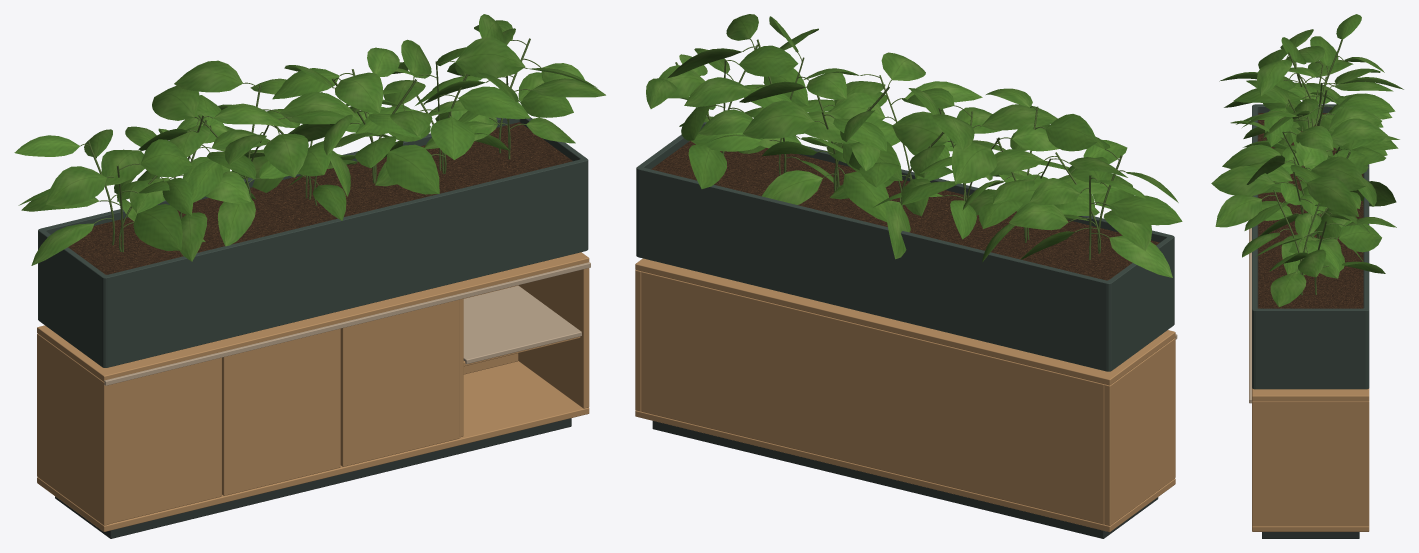
Rendered from botanicalDivider-10.glb.
The picture shows the model from 3 angles, left to right: view 1: azimuth 30°, elevation 25°; view 2: azimuth 150°, elevation 25°; view 3: azimuth 270°, elevation 25°; orthographic projection. The views are drawn at different scales.
Visible parts, largest first — view 1: Planter_pothos_leaves, Planter_oiled_oak, StoragePlanter_Door (×3), StoragePlanter_Side (×2), Planter_loose_soil, StoragePlanter_Bottom, StoragePlanter_Top, StoragePlanter_OpenShelf, StoragePlanter_Plinth, Planter_pothos_stems, StoragePlanter_AccentRail, StoragePlanter_Divider; view 2: StoragePlanter_Back, Planter_pothos_leaves, Planter_oiled_oak, Planter_loose_soil, StoragePlanter_Side (×2), StoragePlanter_Top, StoragePlanter_Plinth, StoragePlanter_Bottom, Planter_pothos_stems; view 3: Planter_pothos_leaves, StoragePlanter_Side, Planter_oiled_oak, Planter_loose_soil, Planter_pothos_stems, StoragePlanter_Top, StoragePlanter_Bottom, StoragePlanter_Plinth, StoragePlanter_AccentRail.
Part boxes in pixels (x1,y1,x2,y2): Planter_pothos_leaves: (14,14,605,265); Planter_oiled_oak: (38,117,588,367); StoragePlanter_Door (×3): (109,299,459,523); StoragePlanter_Side (×2): (37,268,589,525); Planter_loose_soil: (68,122,572,274); StoragePlanter_Bottom: (37,361,589,531); StoragePlanter_Top: (37,252,589,381); StoragePlanter_OpenShelf: (463,285,581,363); StoragePlanter_Plinth: (55,418,571,538); Planter_pothos_stems: (80,38,541,252); StoragePlanter_AccentRail: (104,262,590,385); StoragePlanter_Divider: (459,298,463,437); StoragePlanter_Back: (641,271,1104,524); Planter_pothos_leaves: (646,14,1182,277); Planter_oiled_oak: (636,122,1174,371); Planter_loose_soil: (651,140,1159,280); StoragePlanter_Side (×2): (635,270,1175,525); StoragePlanter_Top: (635,258,1175,385); StoragePlanter_Plinth: (652,421,1158,538); StoragePlanter_Bottom: (635,410,1175,532); Planter_pothos_stems: (675,39,1125,259); Planter_pothos_leaves: (1211,14,1403,307); StoragePlanter_Side: (1252,401,1369,526); Planter_oiled_oak: (1252,104,1369,389); Planter_loose_soil: (1258,113,1363,308); Planter_pothos_stems: (1262,39,1350,295); StoragePlanter_Top: (1252,388,1369,401); StoragePlanter_Bottom: (1252,526,1369,531); StoragePlanter_Plinth: (1262,532,1359,538); StoragePlanter_AccentRail: (1249,228,1251,403).
Bounding box in the file's own units: 2.26 × 1.58 × 0.7924.
10 materials, 2 textured.
